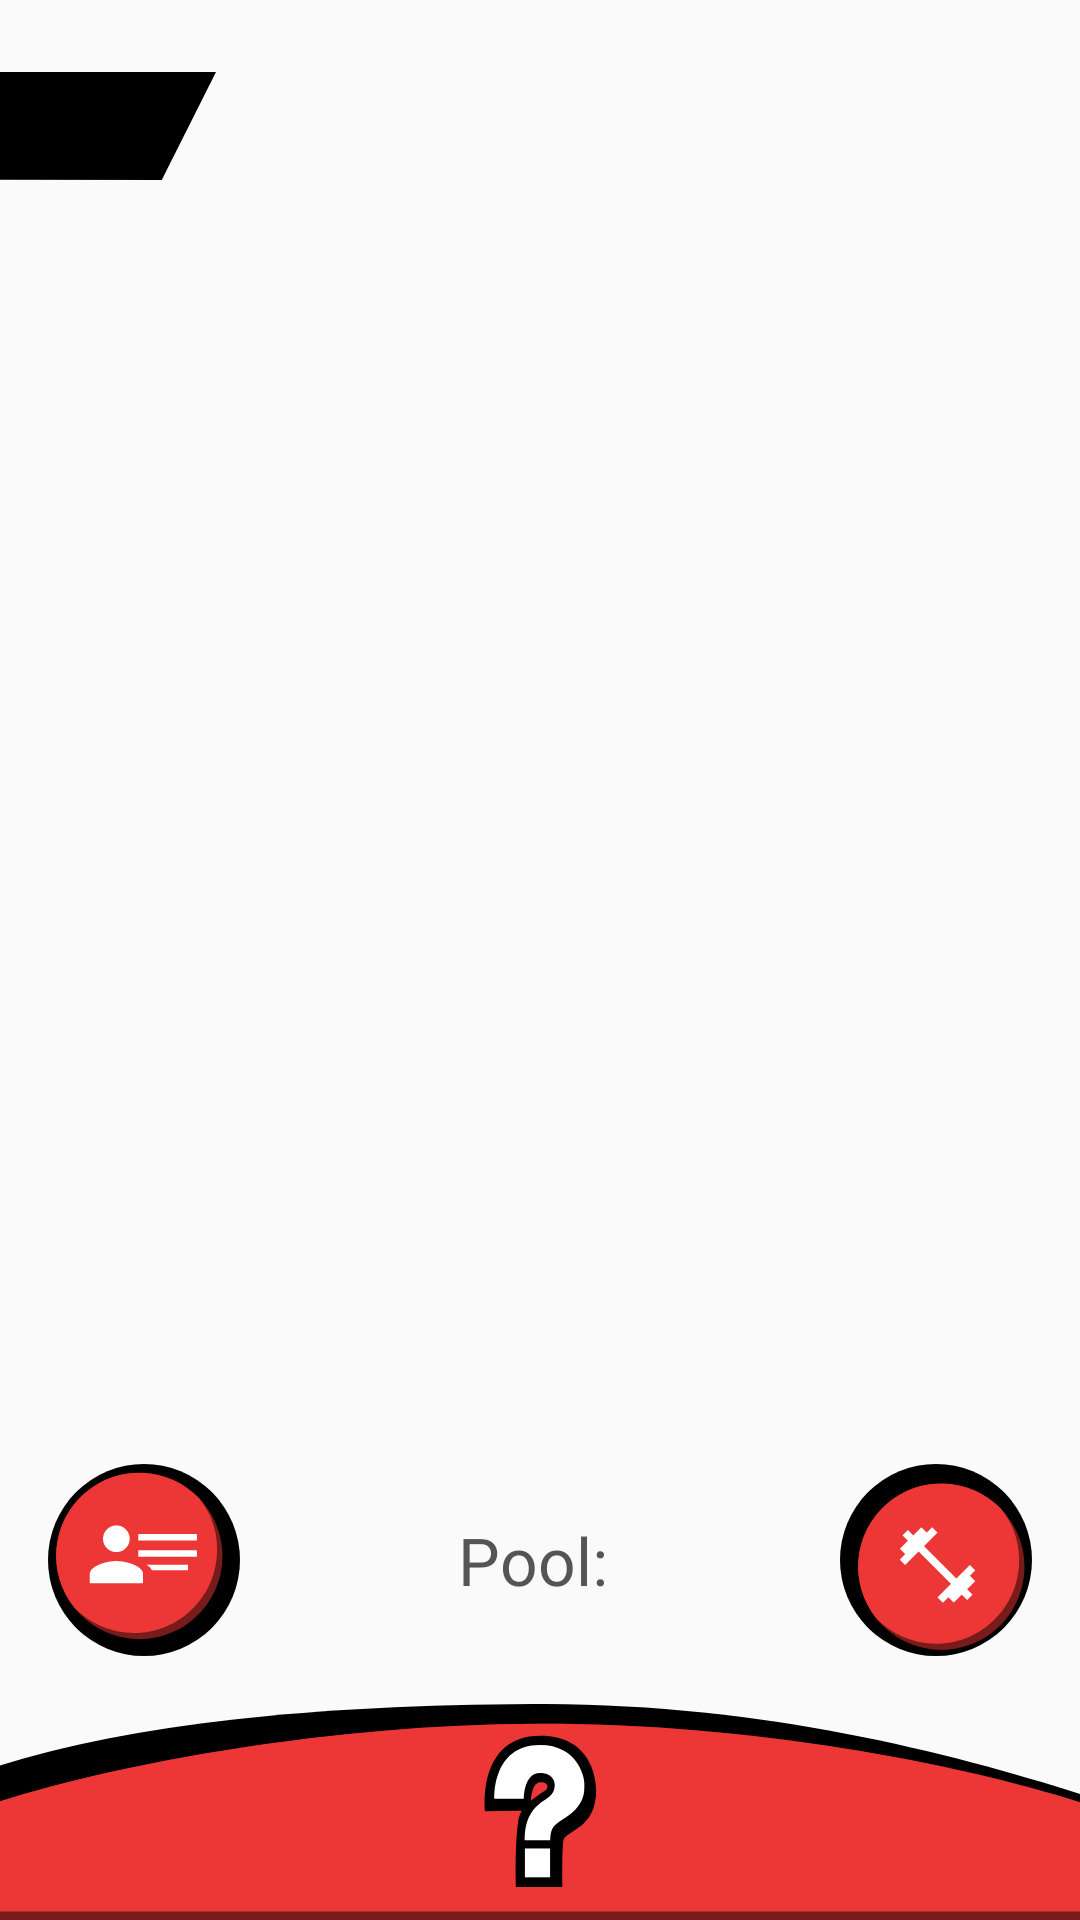

Where to tap for icons on this 1080px x 1920px app screen, as (x,y):
Begin Ironman: (936,1560)
